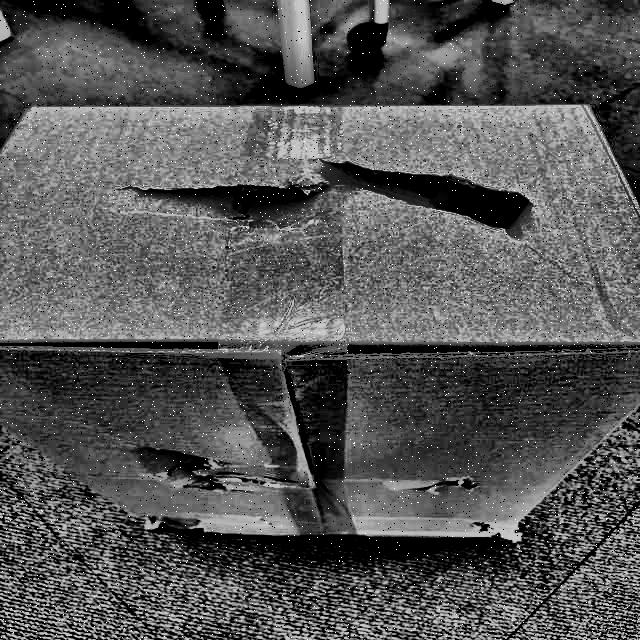box: (0, 91, 640, 573)
hole: (329, 156, 529, 232), (134, 175, 320, 219), (146, 441, 262, 497)
